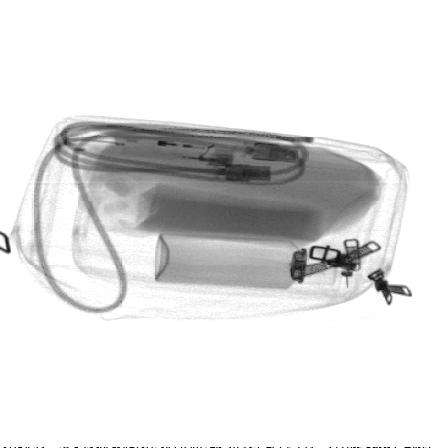Lighter: (149, 134, 239, 170)
Sprayer: (154, 232, 341, 291)
